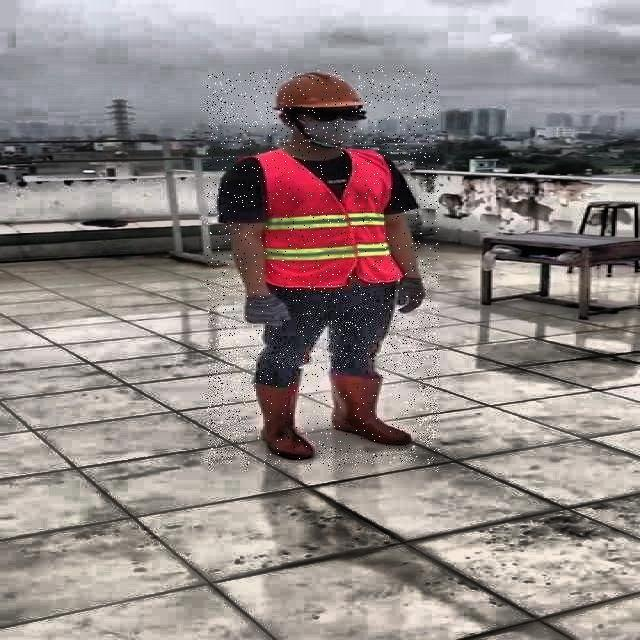safety_helmet: (270, 71, 358, 110)
safety_jacket: (247, 150, 404, 287)
